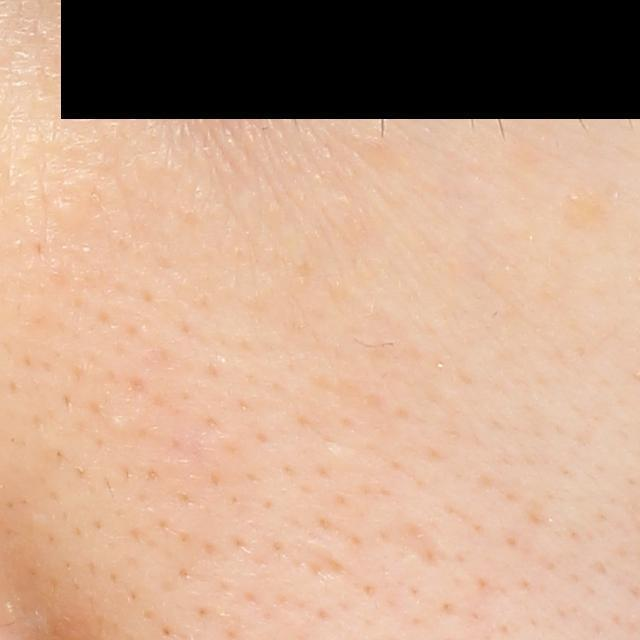atrophic_scar: (385, 521, 451, 574), (292, 545, 350, 585)
